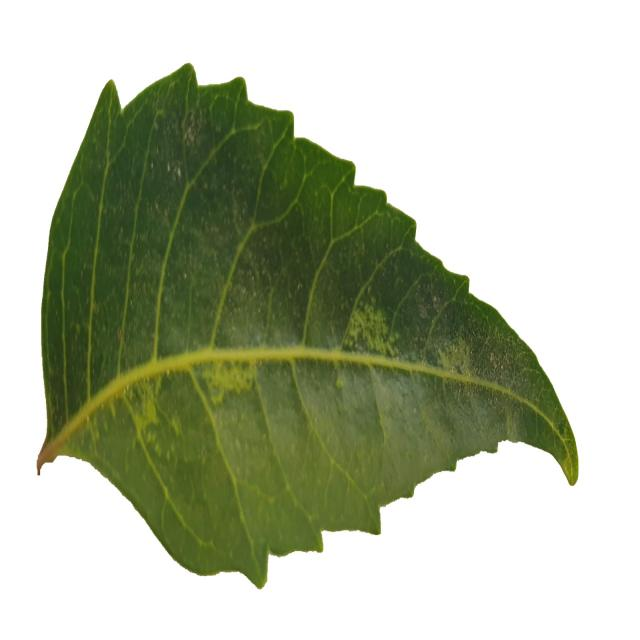Medicinal-Neem: (28, 54, 579, 588)
